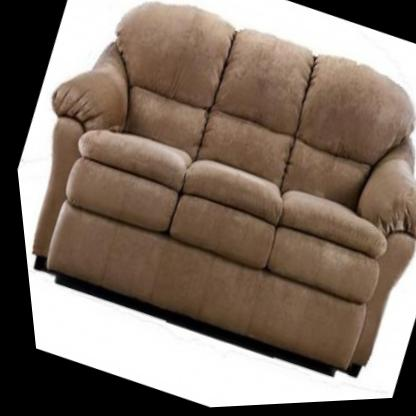Sofa: (0, 0, 416, 414)
